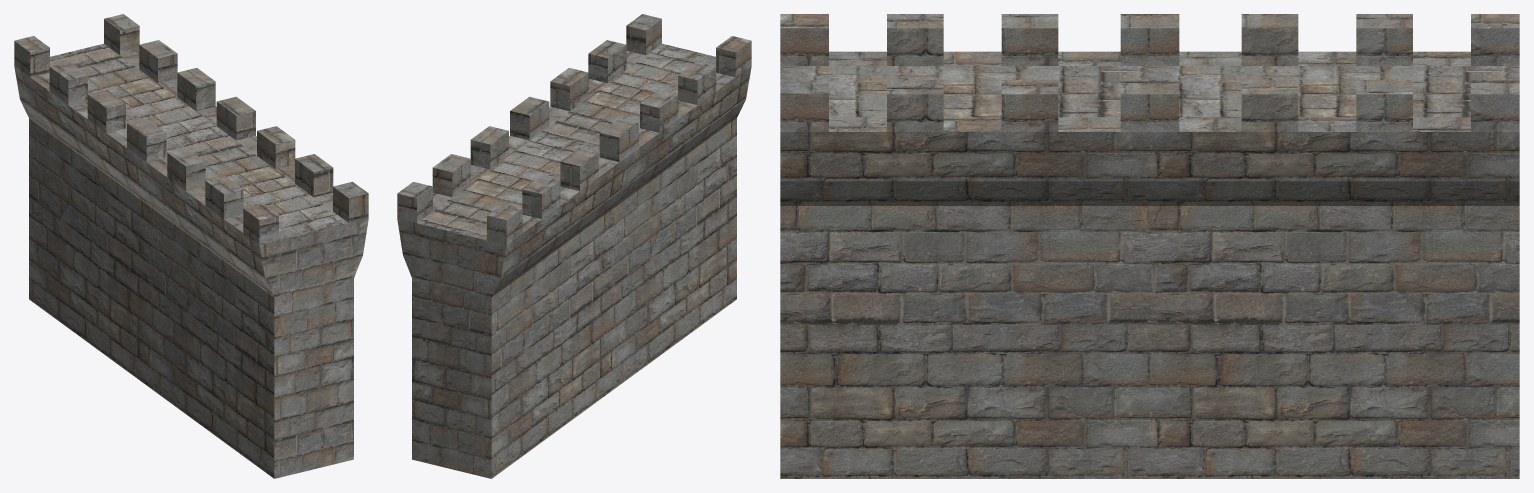
The model's file is wall.fbx.
3 views of the same model, side by side, from view 1: azimuth 30°, elevation 25°; view 2: azimuth 150°, elevation 25°; view 3: azimuth 270°, elevation 25° (orthographic). The views are drawn at different scales.
Visible parts, largest first — view 1: polySurface43; view 2: polySurface43; view 3: polySurface43.
Boxes of the visible parts, x1=… form: polySurface43: x1=14, y1=14, x2=368, y2=478; polySurface43: x1=397, y1=14, x2=751, y2=478; polySurface43: x1=780, y1=14, x2=1519, y2=478.
Bounding box in the file's own units: 0.3686 × 0.8455 × 1.43.
Materials: 1 (1 with a texture image).
